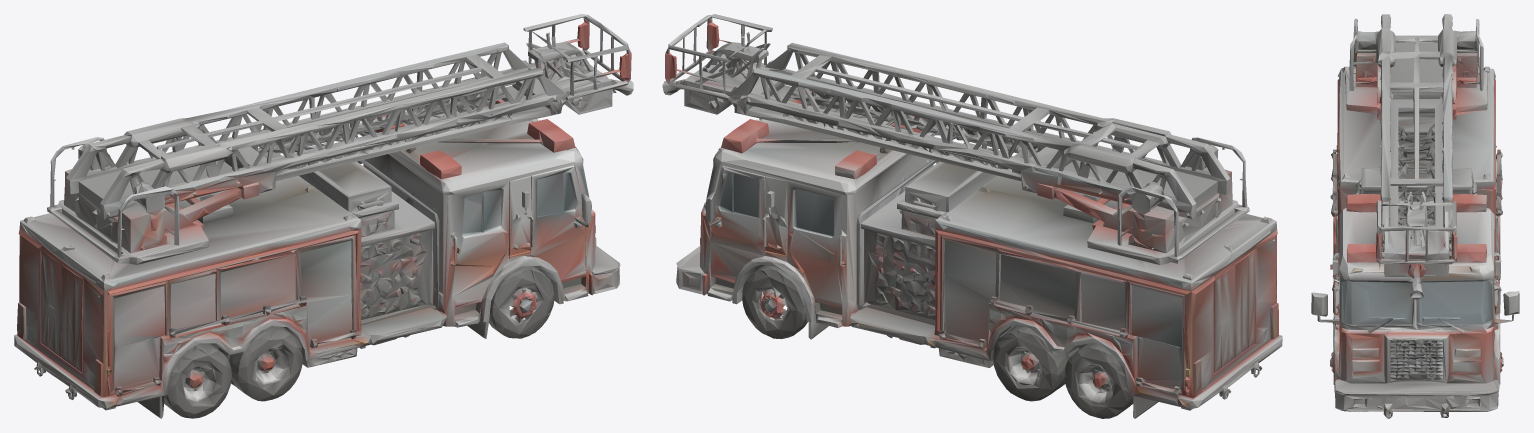
Rendered from firetruck_c.glb.
3 renders of one model, left to right at view 1: azimuth 30°, elevation 25°; view 2: azimuth 150°, elevation 25°; view 3: azimuth 270°, elevation 25°, orthographic. The views are drawn at different scales.
Visible parts, largest first — view 1: tripo_node_e5fb5e68-6f37-4110-b27d-7ef3496954ac; view 2: tripo_node_e5fb5e68-6f37-4110-b27d-7ef3496954ac; view 3: tripo_node_e5fb5e68-6f37-4110-b27d-7ef3496954ac.
Boxes of the visible parts, x1,y1,x2,y2 form: tripo_node_e5fb5e68-6f37-4110-b27d-7ef3496954ac: [14, 14, 633, 418]; tripo_node_e5fb5e68-6f37-4110-b27d-7ef3496954ac: [662, 14, 1282, 418]; tripo_node_e5fb5e68-6f37-4110-b27d-7ef3496954ac: [1311, 14, 1519, 418].
Size of the model in its own units: 0.9836 by 0.4122 by 0.3386.
